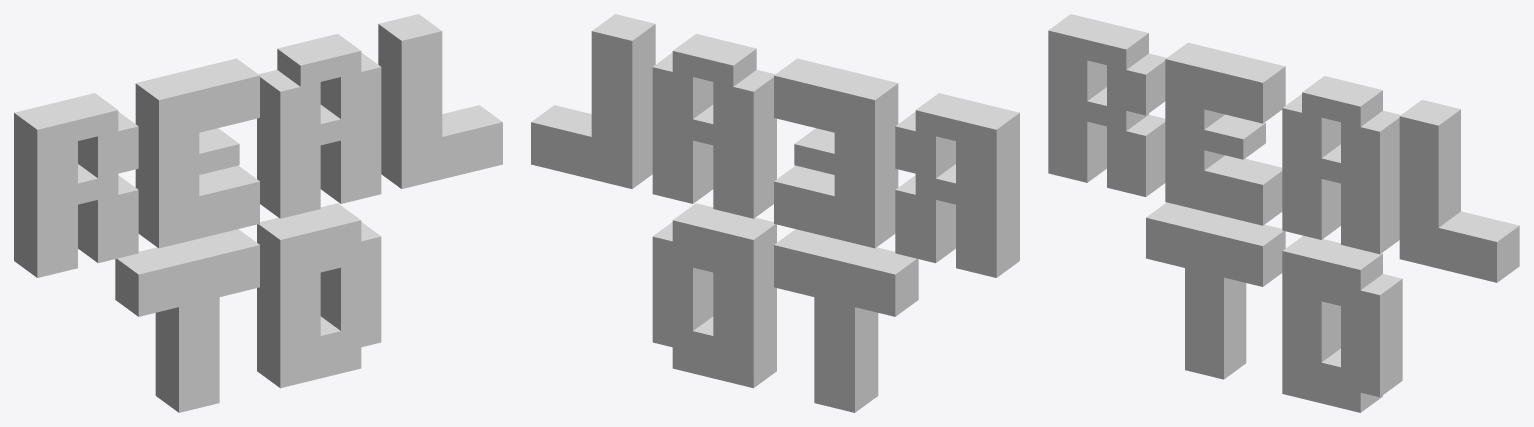
The model's file is RealTD.obj.
3 renders of one model, left to right at view 1: azimuth 30°, elevation 25°; view 2: azimuth 150°, elevation 25°; view 3: azimuth 330°, elevation 25°, orthographic. The views are drawn at different scales.
Size of the model in its own units: 2.3 by 1.5 by 0.2.
1 material, 1 textured.
